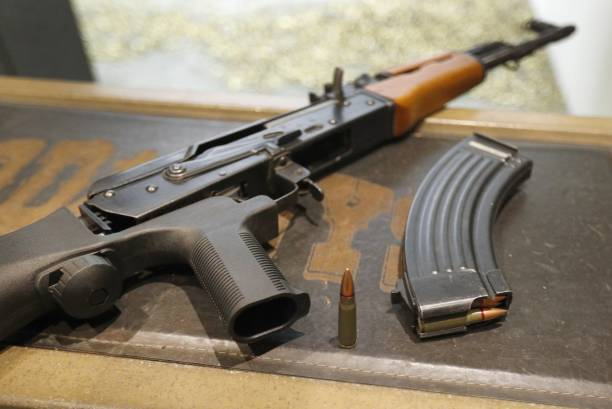rifle: (5, 24, 590, 375)
